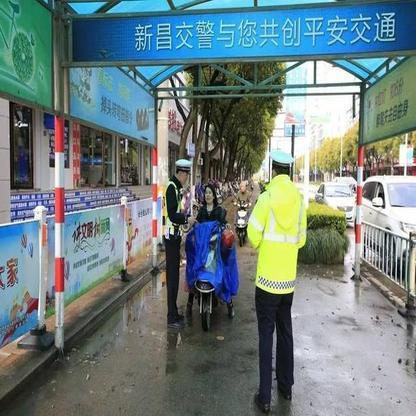target: (186, 184, 238, 331)
